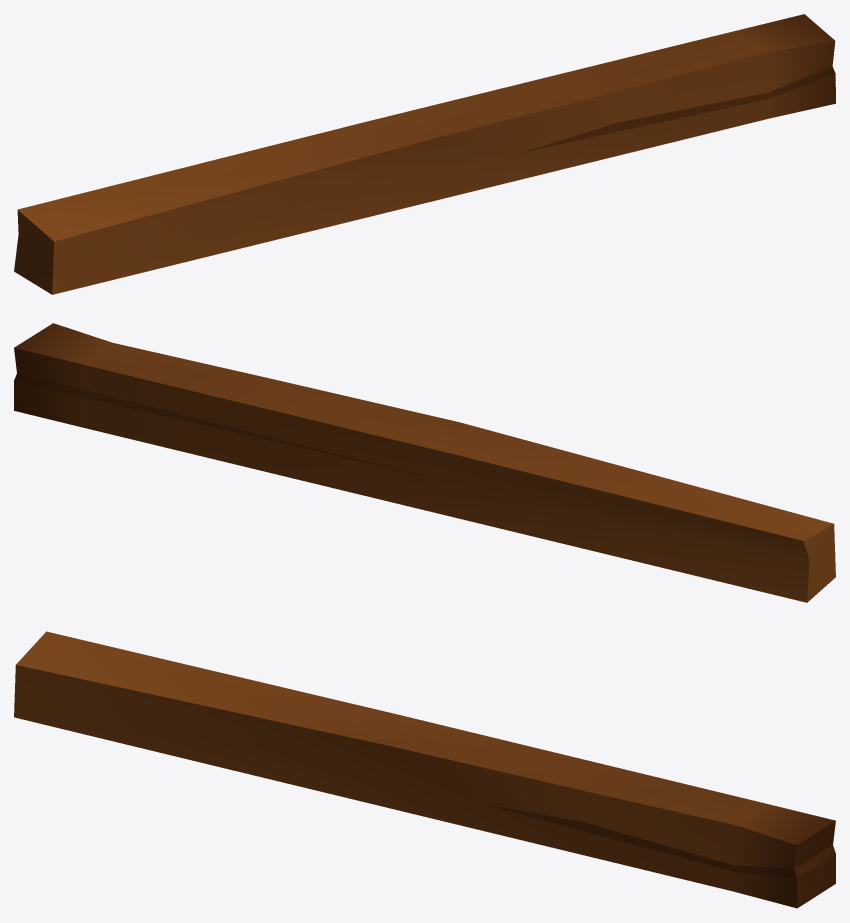
File: Wood_Beam_A.fbx
3 views of the same model, one above another, from view 1: azimuth 30°, elevation 25°; view 2: azimuth 150°, elevation 25°; view 3: azimuth 330°, elevation 25° (orthographic).
Parts seen in each view (by area): view 1: Wood_Beam_A; view 2: Wood_Beam_A; view 3: Wood_Beam_A.
Boxes of the visible parts, <box> form: Wood_Beam_A: <box>14,14,835,294</box>; Wood_Beam_A: <box>14,323,835,602</box>; Wood_Beam_A: <box>14,631,835,908</box>.
Bounding box in the file's own units: 391 × 29.75 × 29.95.
